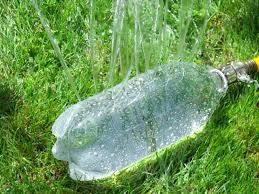plastic_bottle: (48, 51, 259, 184)
